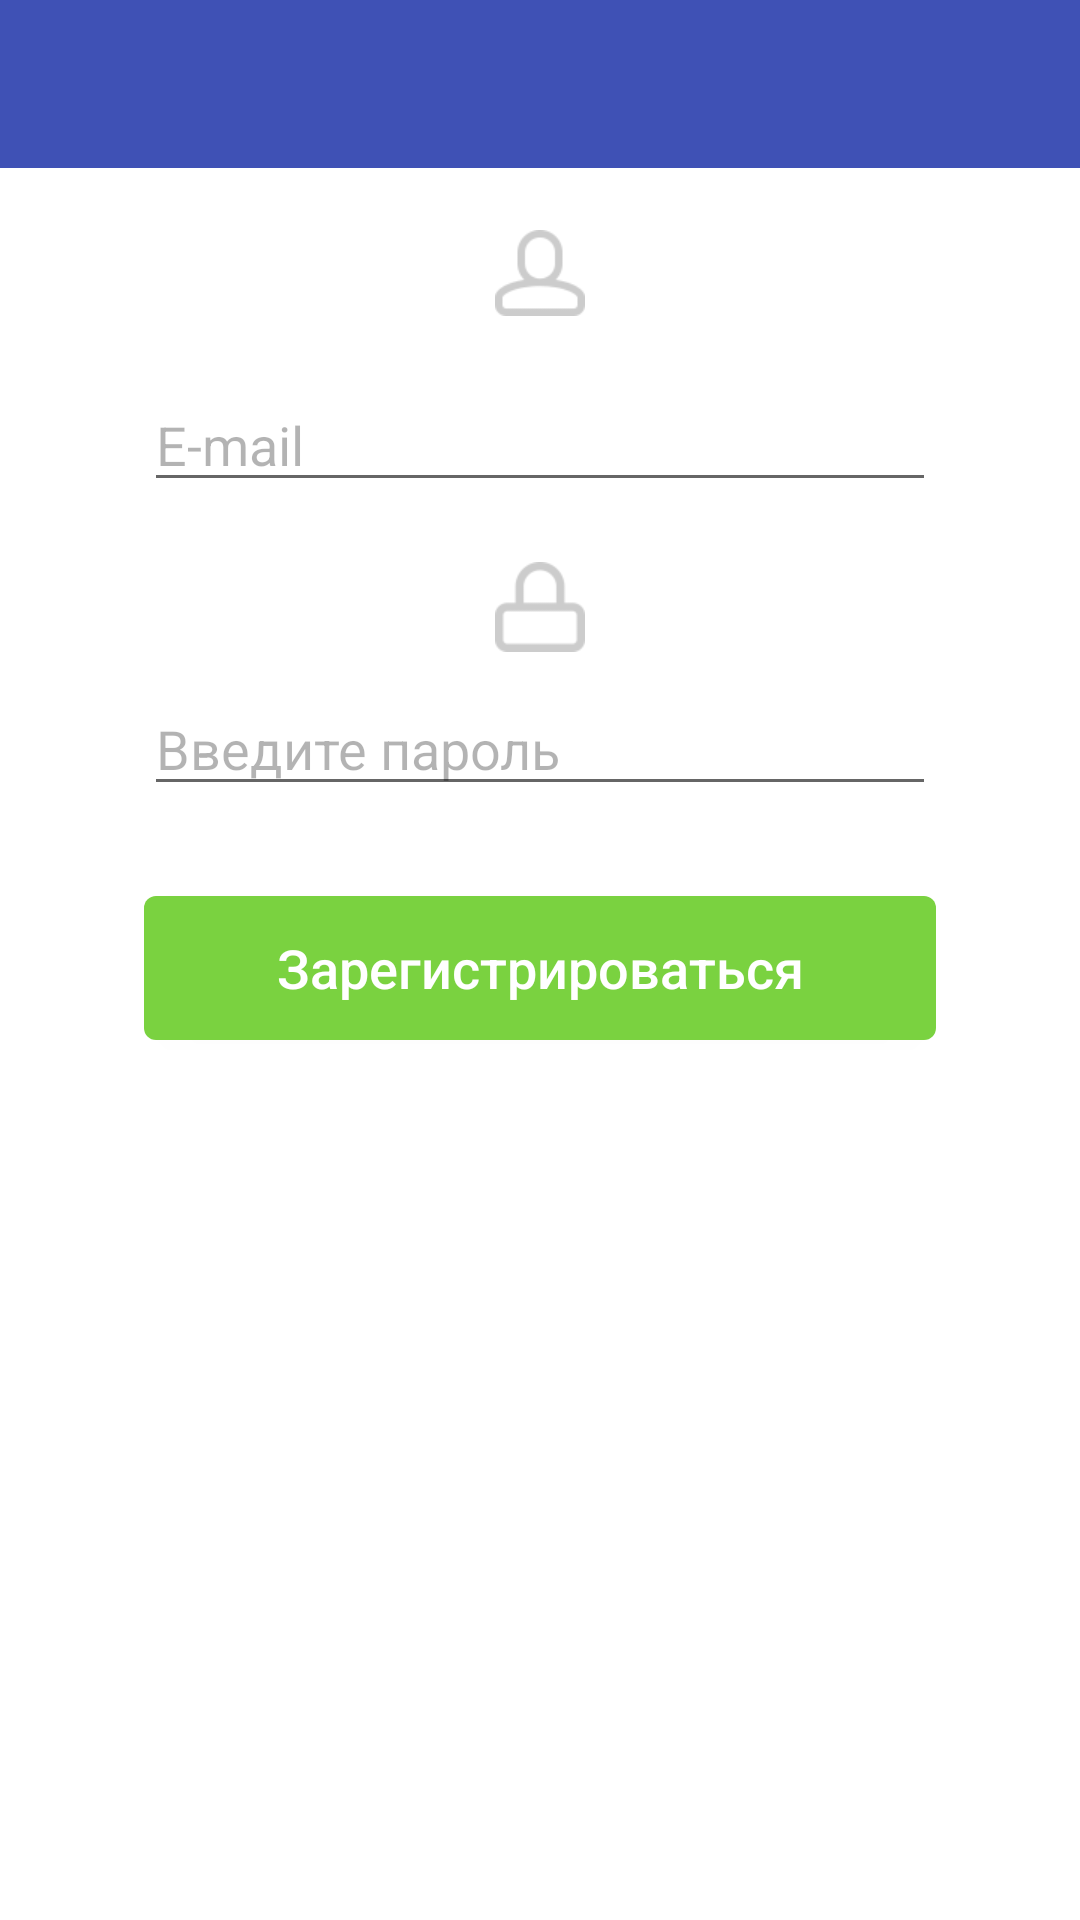

Icon click points for this 1080 x 1920 phone screenshot, format [x,y]:
pers reg lock: [540,607]
pers reg user: [540,273]
